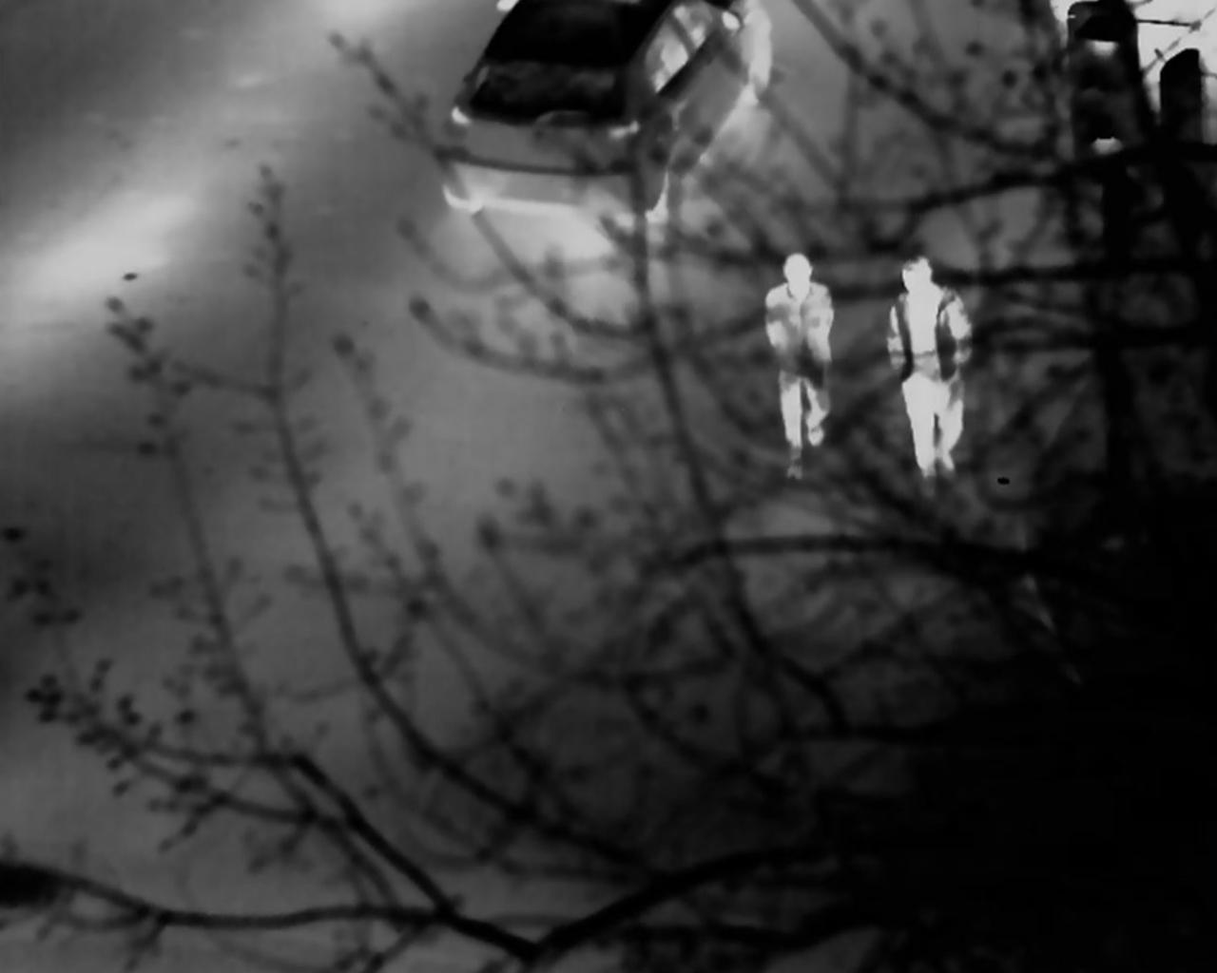person: (879, 257, 975, 499), (765, 252, 834, 478)
